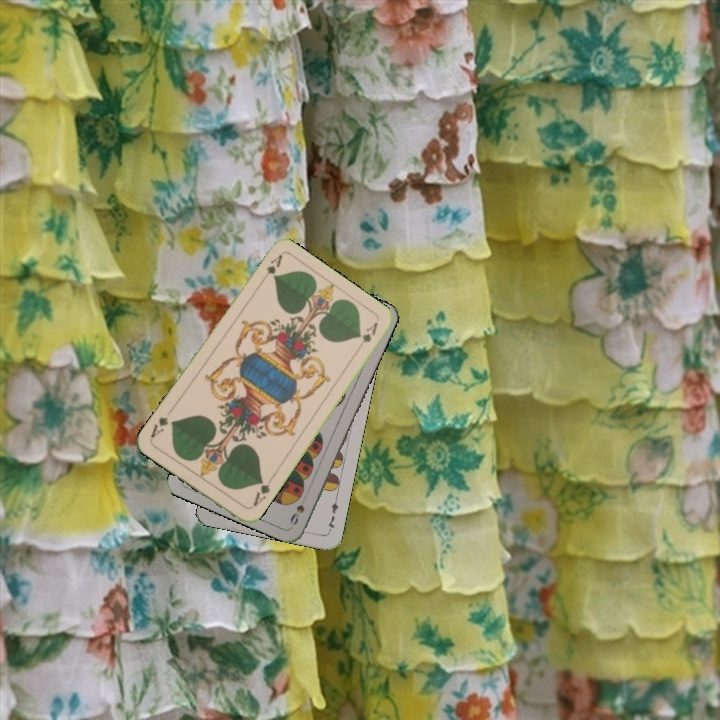E7: (323, 495, 341, 535)
GA: (247, 474, 275, 510), (262, 251, 285, 277)
S9: (286, 490, 310, 528)
